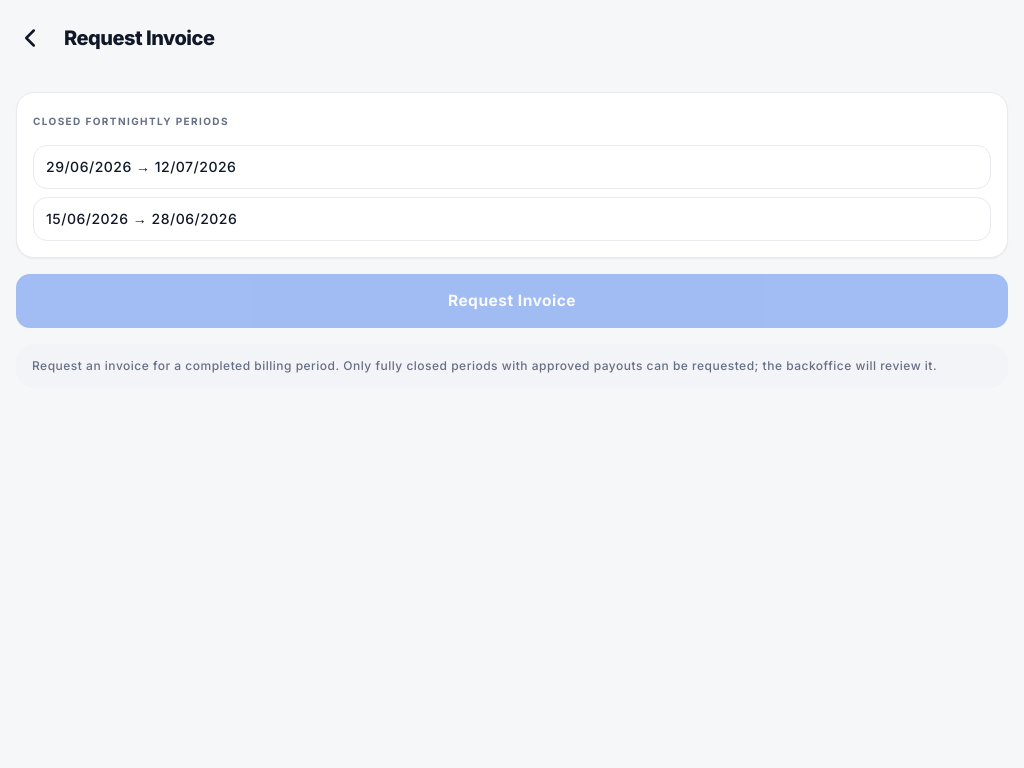
Test: RequestInvoicePage › shows a friendly error when the period has no approved payouts
Click the radio button with test id "period-option".
click(89, 166)  # box [33,145,991,189]
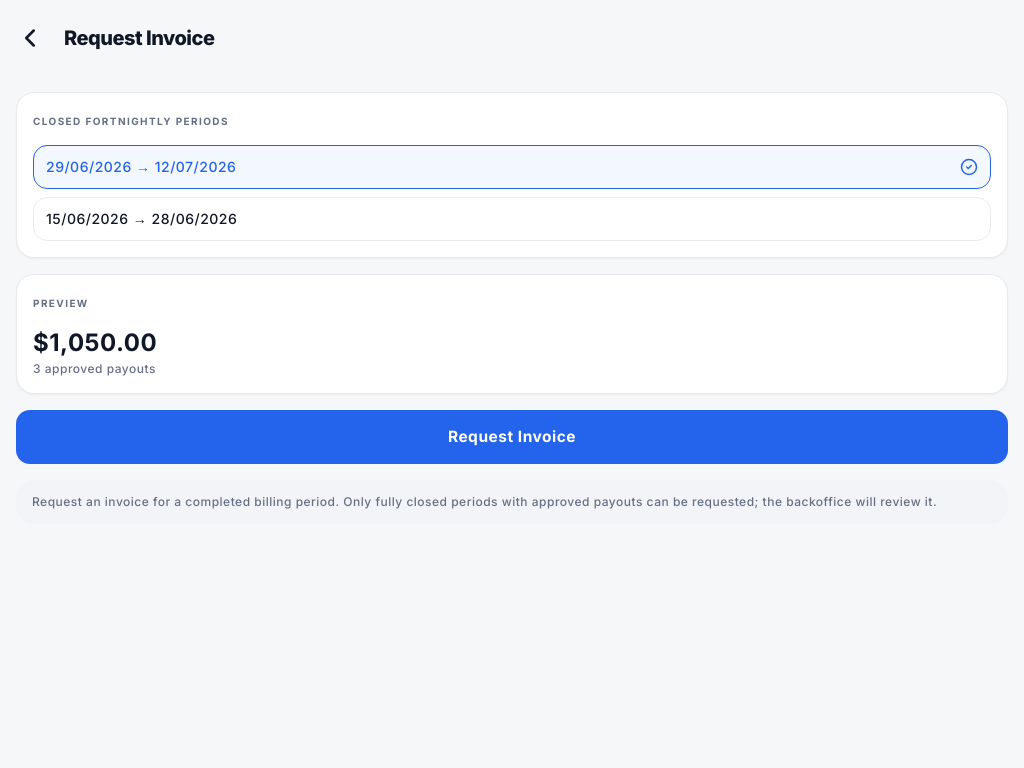
Result: the element with test id "request-invoice-preview" shows "3 approved payouts" at [16,274,1008,394]
// Wait for the preview DATA (not just the skeleton) so the Request button is enabled.
Click the button "Request Invoice".
click(512, 437)  # box [16,410,1008,464]
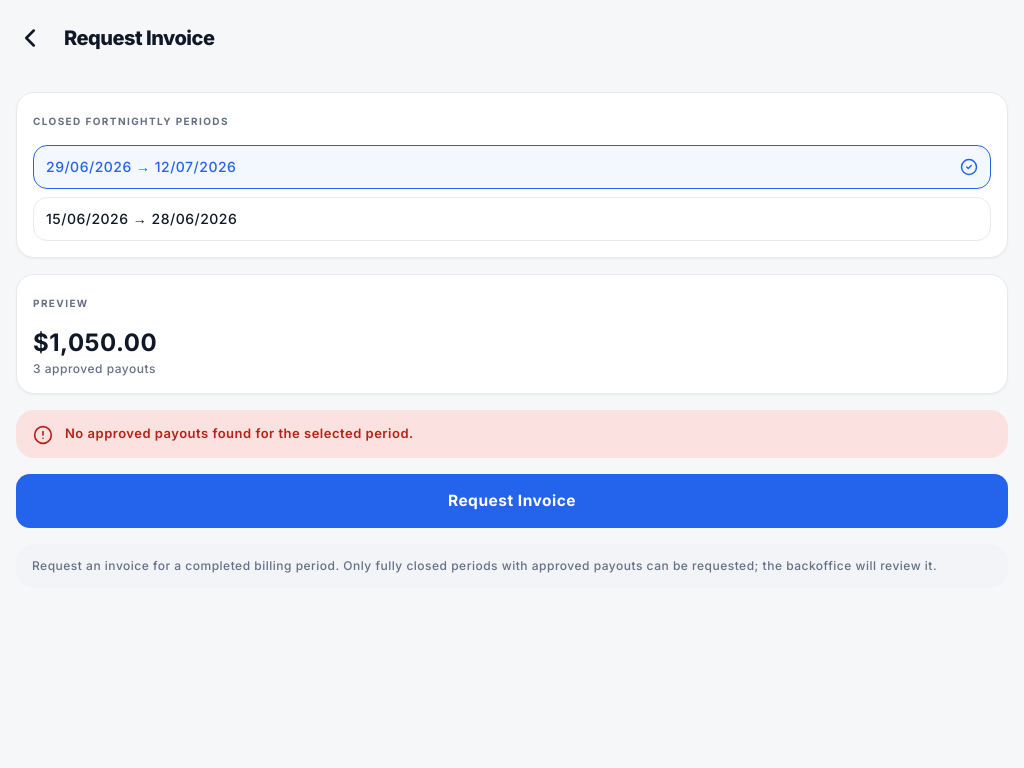
Result: the message with test id "request-invoice-error" shows "No approved payouts" at [65,425,414,441]
